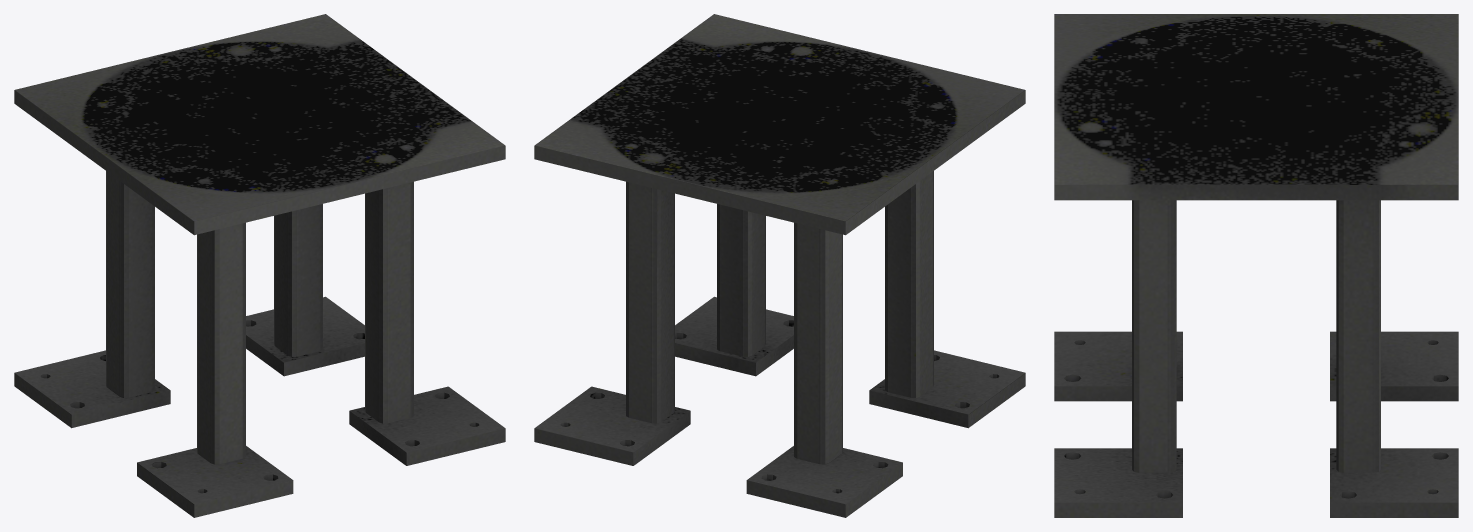
File: robot1_table.glb
The picture shows the model from 3 angles, left to right: view 1: azimuth 30°, elevation 25°; view 2: azimuth 150°, elevation 25°; view 3: azimuth 270°, elevation 25°; orthographic projection. The views are drawn at different scales.
Visible parts, largest first — view 1: Asset3DLoader.sceneRoot; view 2: Asset3DLoader.sceneRoot; view 3: Asset3DLoader.sceneRoot.
Part boxes in pixels (bbox=[...]): Asset3DLoader.sceneRoot: bbox=[14, 14, 505, 517]; Asset3DLoader.sceneRoot: bbox=[534, 14, 1025, 517]; Asset3DLoader.sceneRoot: bbox=[1054, 14, 1458, 517].
Bounding box in the file's own units: 550 × 500 × 550.
Materials: 1 (1 with a texture image).
